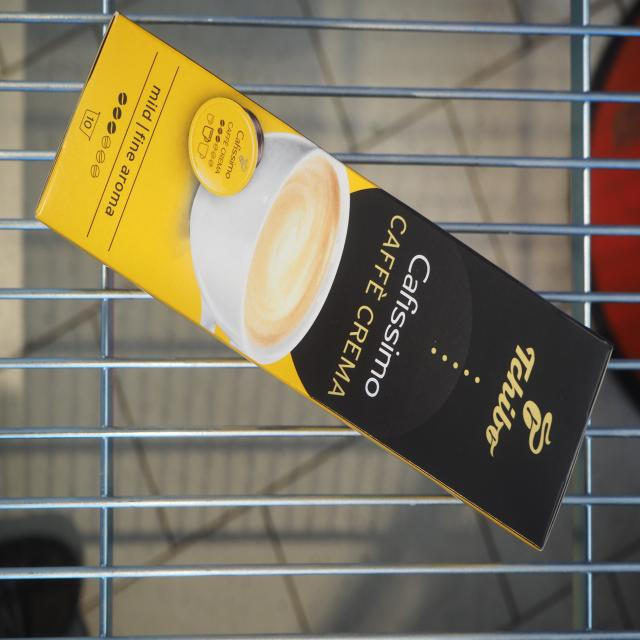Simo CCMild bigpack: (29, 7, 619, 558)
